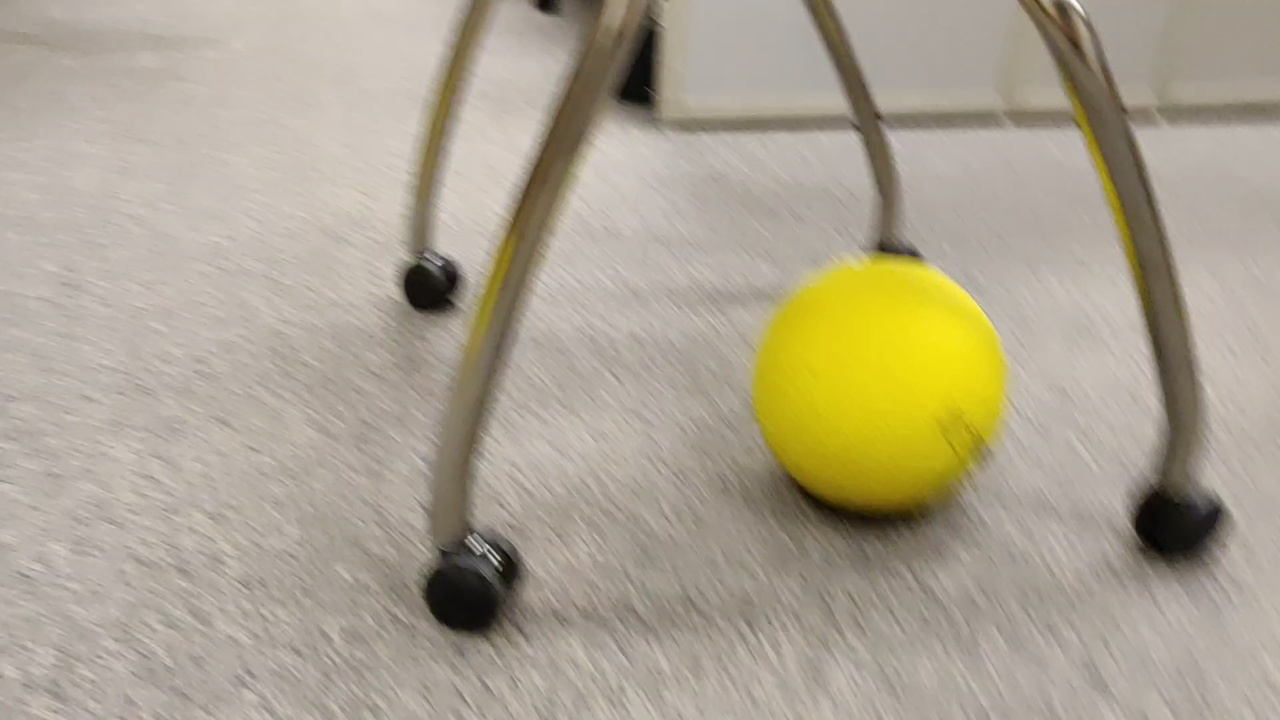Ball: (751, 255, 1011, 515)
